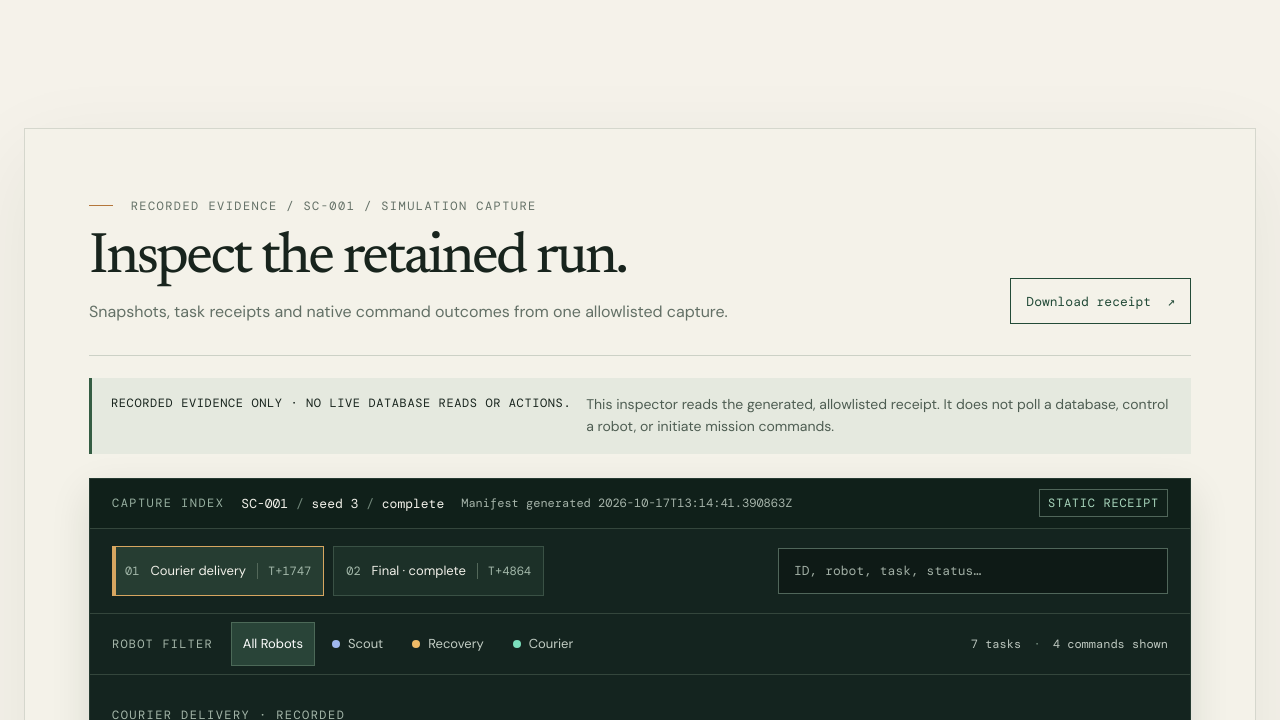
Test: recorded evidence inspector › opens a full task ID and announces successful copying without altering the ID
Step 1. Type "courier" into the search field named "search recorded receipts" → point(973, 571), box [792, 549, 1154, 593]
(page scrolled)
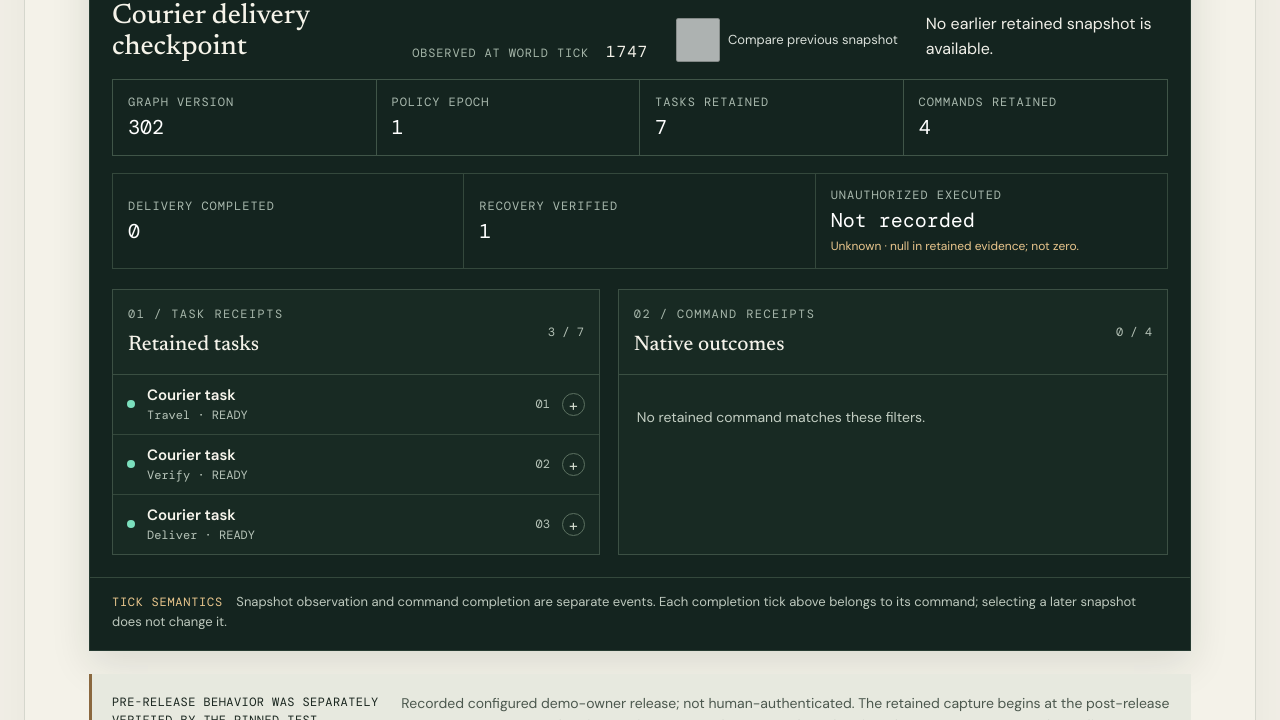
Step 2. Click the heading "Courier task travel · READY 01 +" → point(191, 395), box [113, 375, 599, 434]
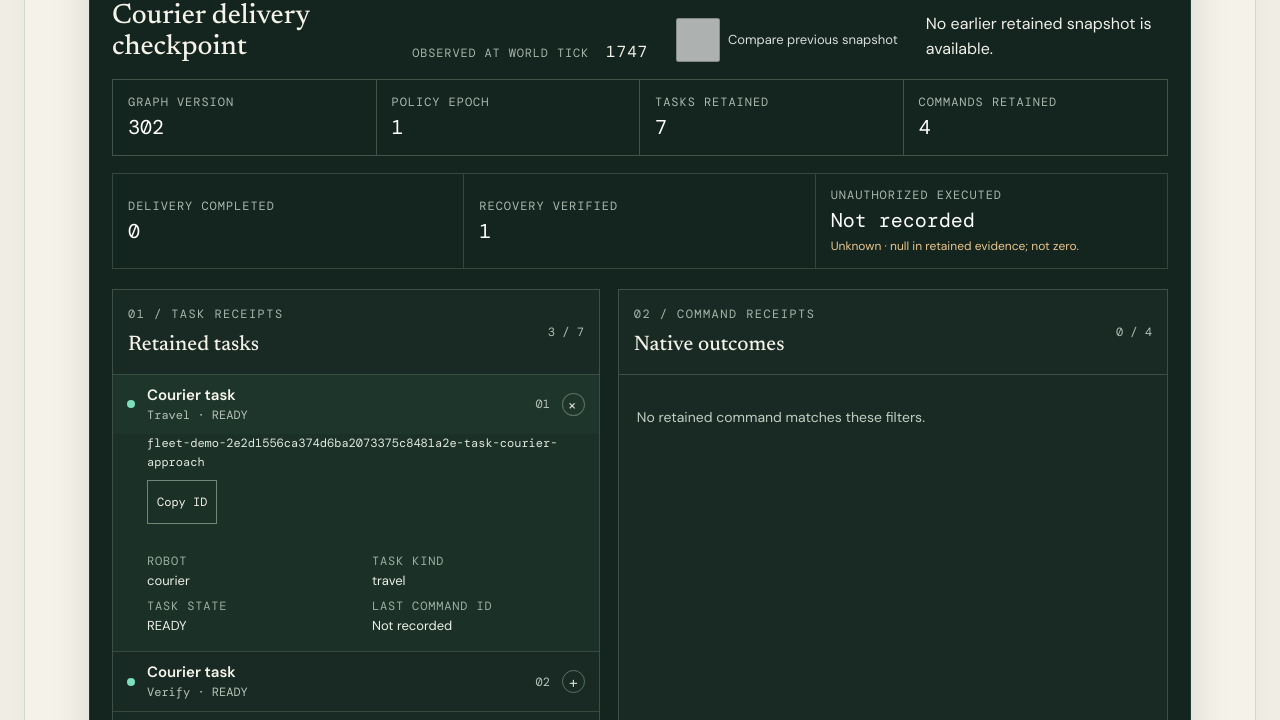
expect the text "fleet-demo-2e2d1556ca374d6ba2073375c8481a2e-task-courier-approach" is shown: met, box [147, 434, 585, 472]
Step 3. Click the button with aria-label "copy task id" → point(182, 502), box [147, 480, 217, 524]
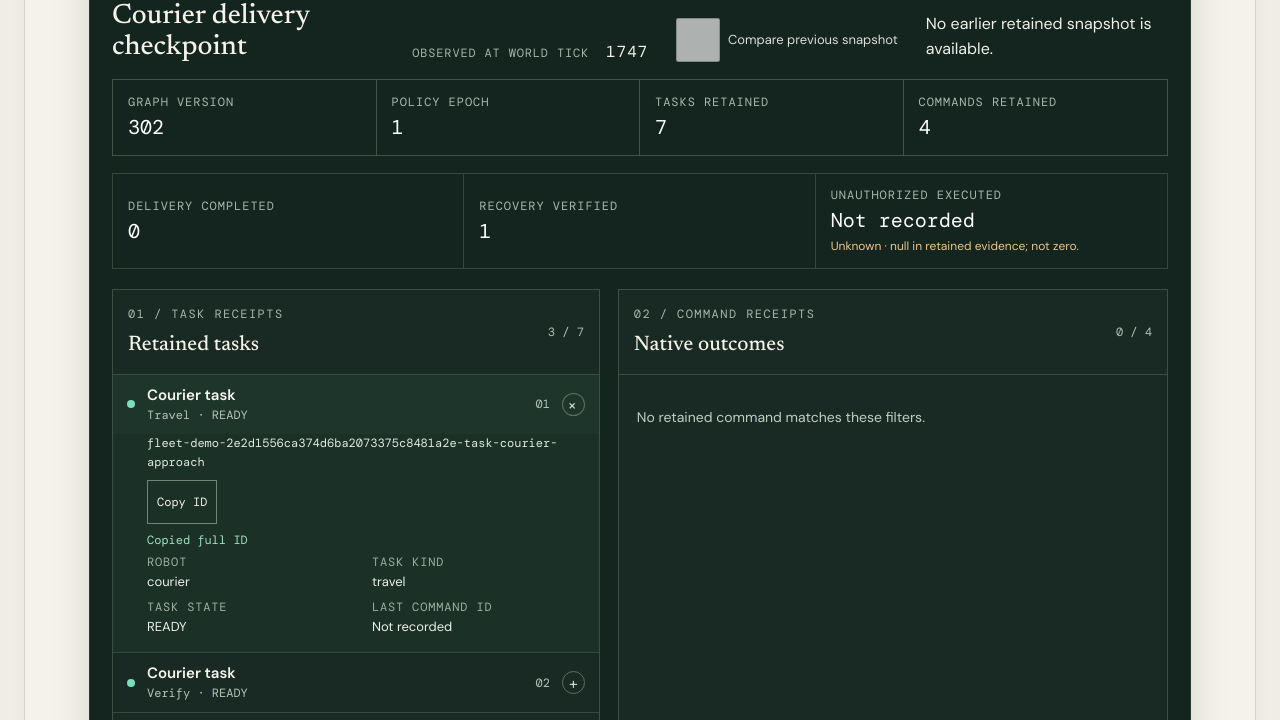
expect the text "Copied full ID" is shown: met, box [147, 532, 248, 548]
